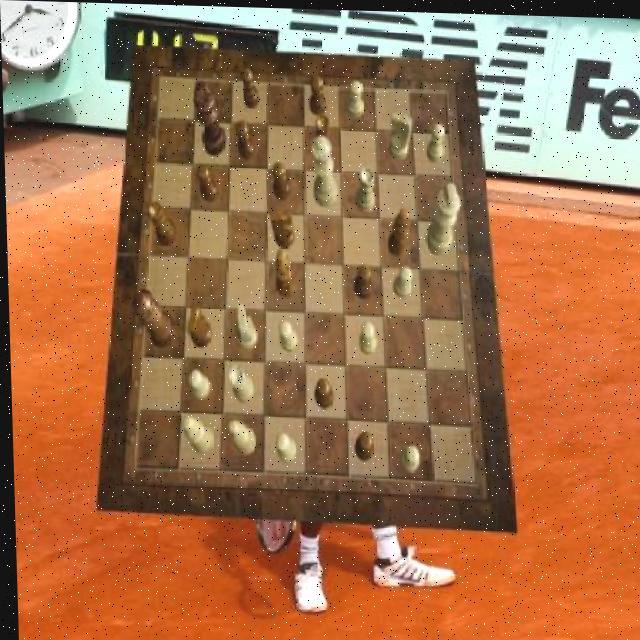bishop: (386, 206, 410, 255), (273, 248, 294, 297)
black-bishop: (192, 80, 225, 155)
black-king: (186, 302, 211, 345), (269, 206, 294, 247)
black-knight: (196, 163, 219, 201), (235, 119, 255, 160), (271, 160, 290, 198), (241, 67, 259, 107), (309, 75, 327, 115), (352, 262, 370, 297), (312, 376, 331, 407), (352, 429, 370, 461)
black-pawn: (131, 289, 176, 349)
black-queen: (146, 200, 176, 246), (313, 114, 332, 163)
black-rook: (181, 415, 211, 453), (227, 417, 255, 452)
white-bishop: (424, 181, 461, 254)
white-king: (388, 111, 412, 159), (233, 302, 257, 348)
white-knight: (426, 121, 444, 161), (346, 79, 364, 118), (392, 264, 413, 297), (273, 431, 295, 462), (187, 369, 209, 400), (277, 319, 297, 351), (358, 319, 376, 353), (398, 443, 418, 469)
white-pawn: (311, 133, 339, 207)
white-queen: (225, 363, 252, 402), (355, 165, 376, 211)
